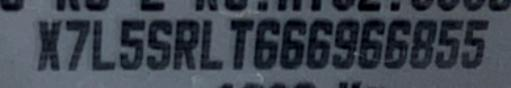letter: (457, 14, 501, 68), (274, 14, 312, 72), (31, 15, 70, 71), (434, 14, 469, 76), (168, 15, 204, 75), (201, 13, 237, 71), (355, 15, 390, 73), (117, 14, 151, 72), (225, 11, 255, 75), (146, 14, 178, 72), (328, 15, 360, 73), (307, 16, 339, 74), (407, 18, 442, 70), (63, 14, 93, 74), (253, 17, 284, 75), (379, 18, 413, 70), (91, 16, 118, 74)
